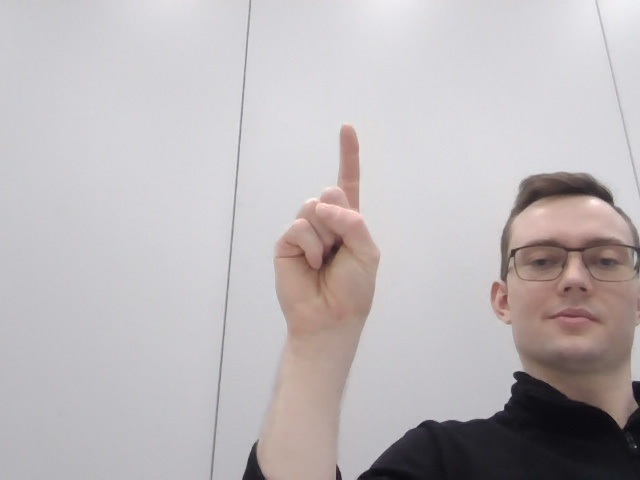up: (257, 112, 414, 366)
